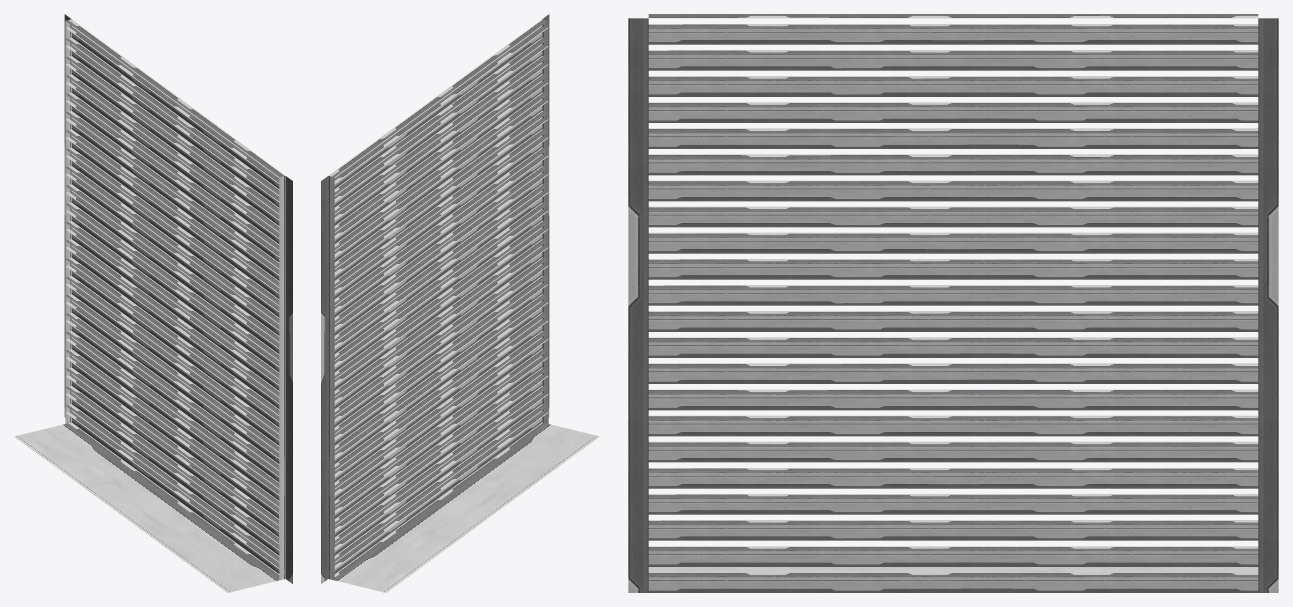
File: PRS_LARGEwallwindowz.FBX
3 renders of one model, left to right at view 1: azimuth 30°, elevation 25°; view 2: azimuth 150°, elevation 25°; view 3: azimuth 270°, elevation 25°, orthographic. The views are drawn at different scales.
Visible parts, largest first — view 1: PRS_LARGEwallwindowz; view 2: PRS_LARGEwallwindowz; view 3: PRS_LARGEwallwindowz.
Part boxes in pixels (x1,y1,x2,y2): PRS_LARGEwallwindowz: (14,14,292,592); PRS_LARGEwallwindowz: (321,14,599,592); PRS_LARGEwallwindowz: (628,14,1278,592).
Size of the model in its own units: 17.5 by 117 by 120.
